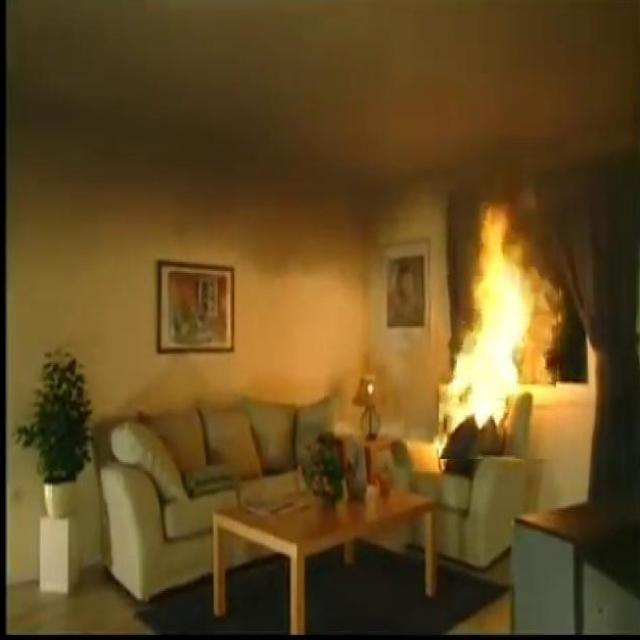smoke: (438, 187, 562, 458)
